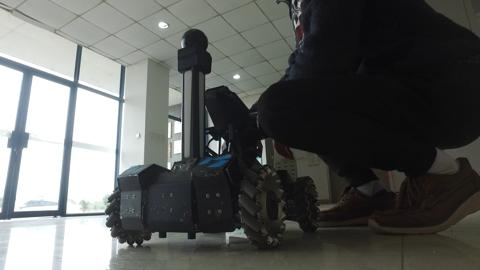chariot: (89, 20, 334, 251)
